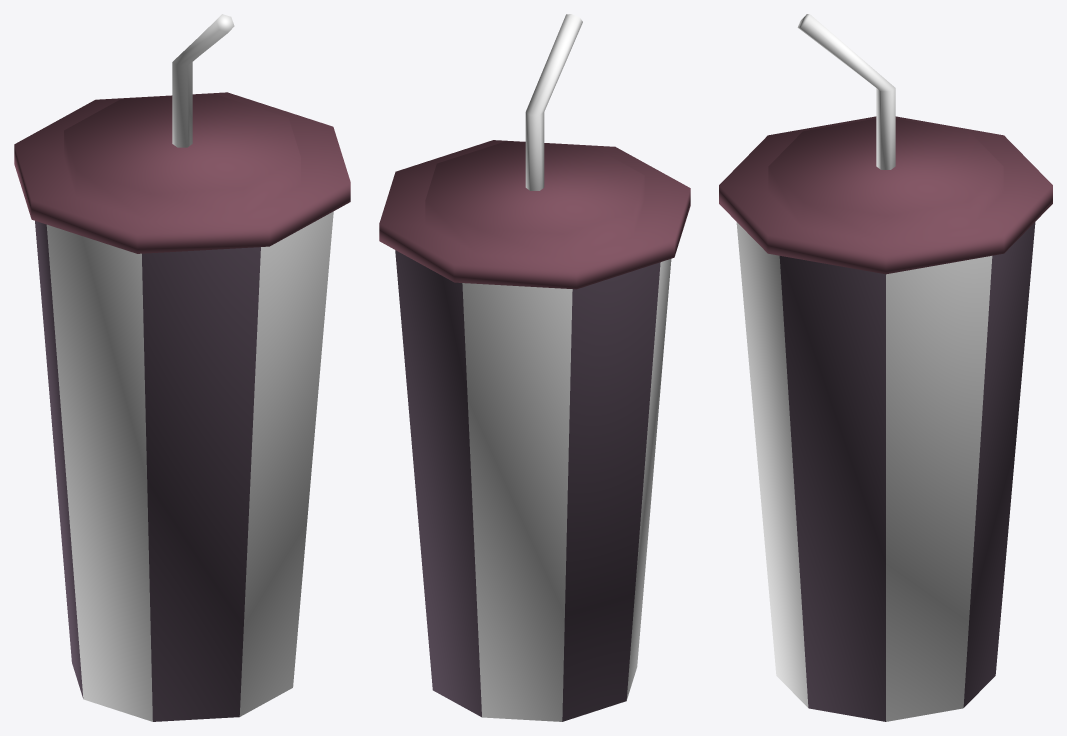
File: mdlDrink.fbx
The picture shows the model from 3 angles, left to right: view 1: azimuth 30°, elevation 25°; view 2: azimuth 150°, elevation 25°; view 3: azimuth 270°, elevation 25°; orthographic projection. The views are drawn at different scales.
Parts seen in each view (by area): view 1: Cylinder; view 2: Cylinder; view 3: Cylinder.
Part boxes in pixels (box(x1,y1,x2,y2)): Cylinder: box(14, 14, 350, 721); Cylinder: box(379, 14, 690, 721); Cylinder: box(719, 14, 1052, 721).
Bounding box in the file's own units: 2.21 × 4.82 × 2.21.
